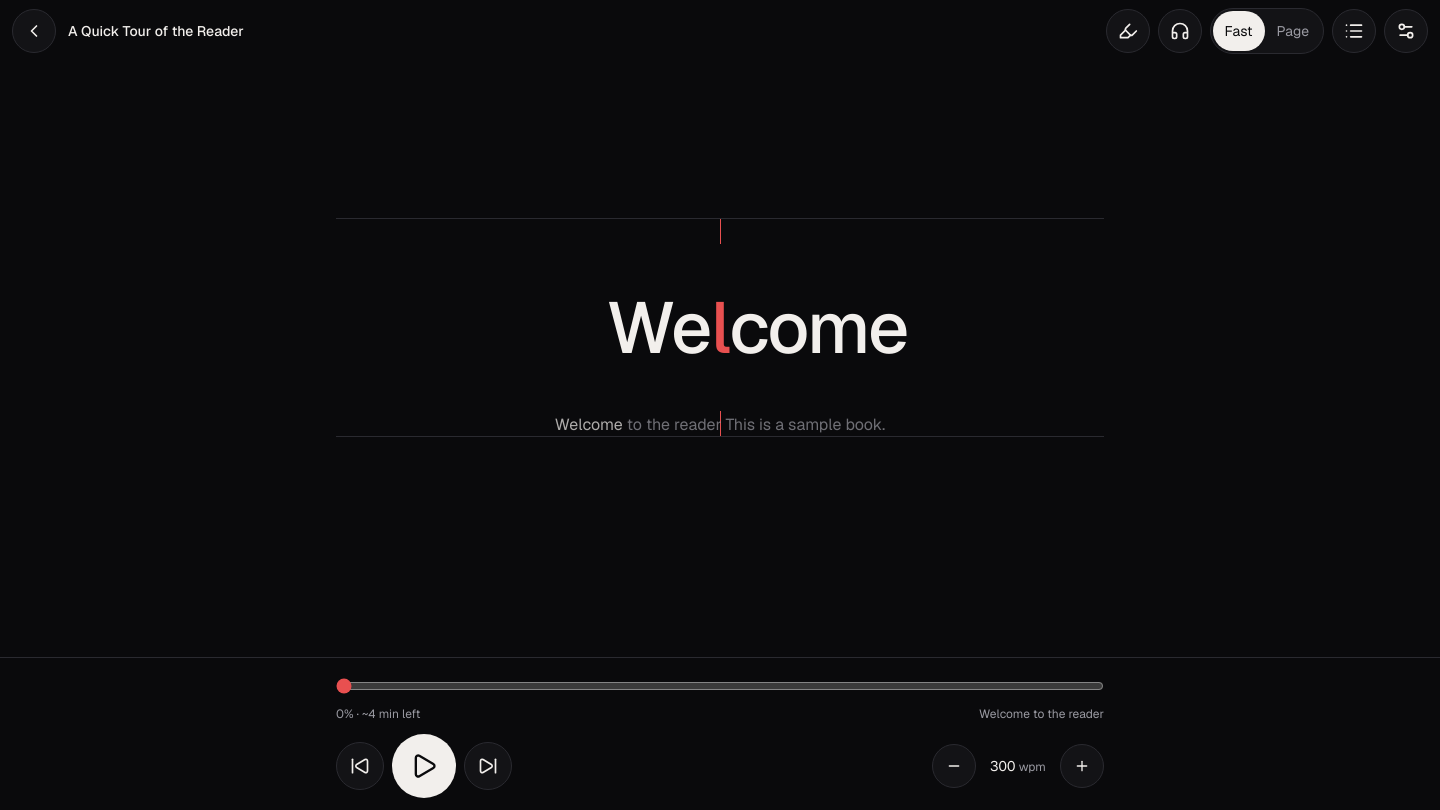
Test: ReaderApp › the play button works the same way
Click the button named "Play" at point(424, 766), box [392,734,456,798]
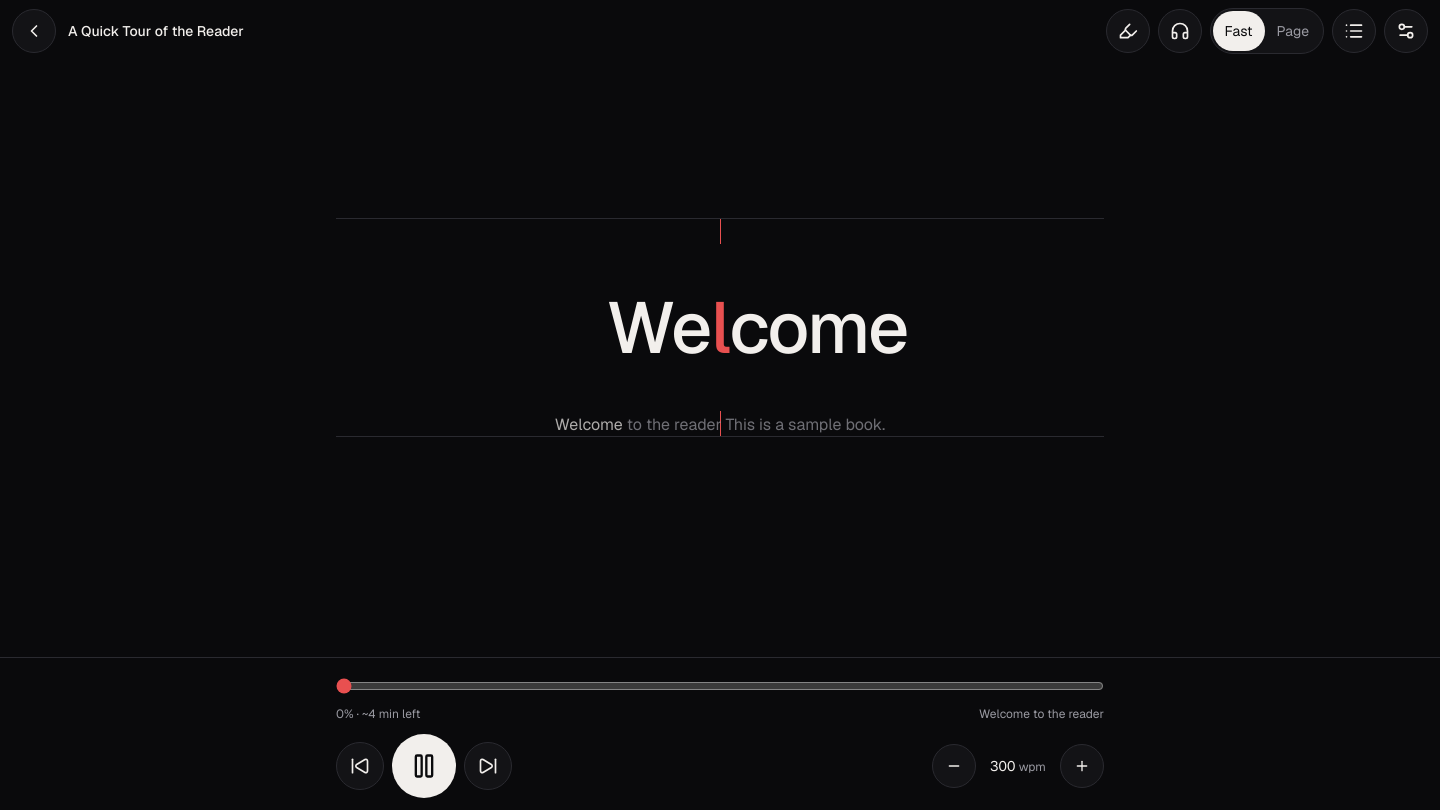
Now the button named "Pause" is shown
Click the button named "Pause" at point(424, 766), box [392,734,456,798]
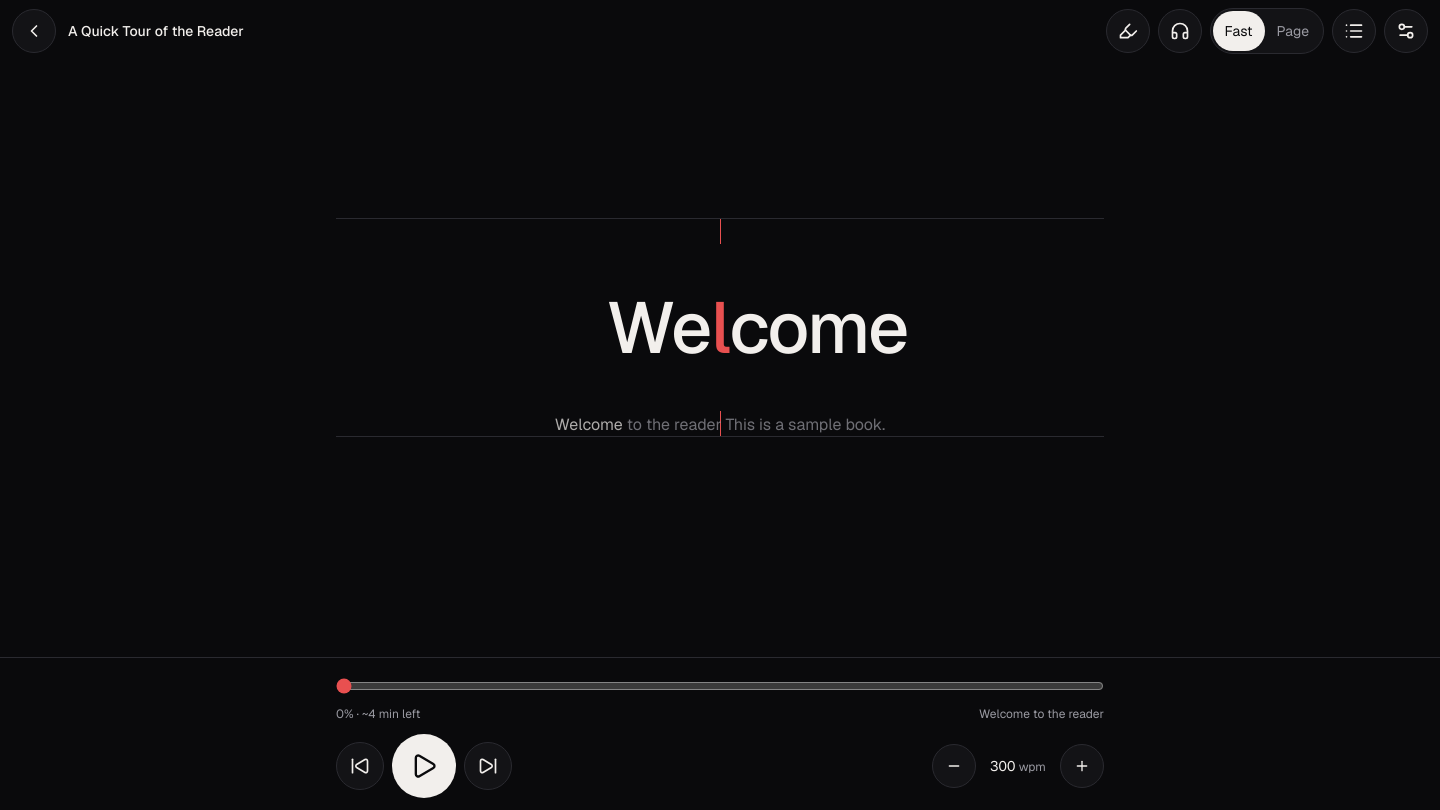
Now the button named "Play" is shown, box [392,734,456,798]
